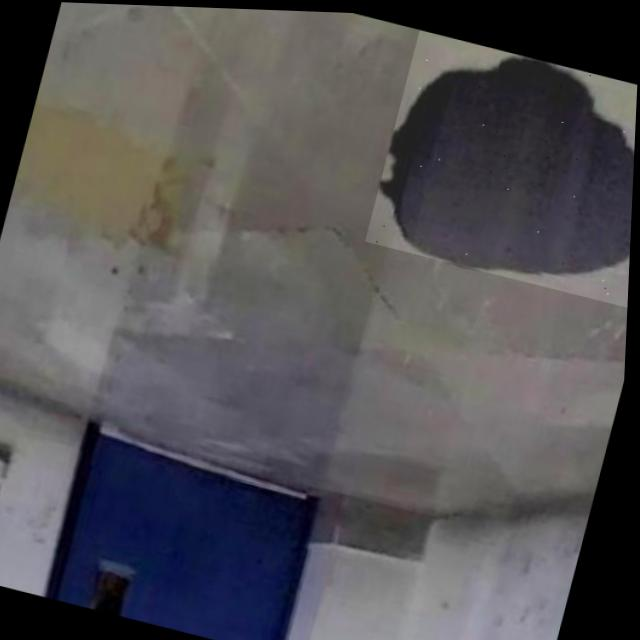spillage: (382, 52, 636, 270)
